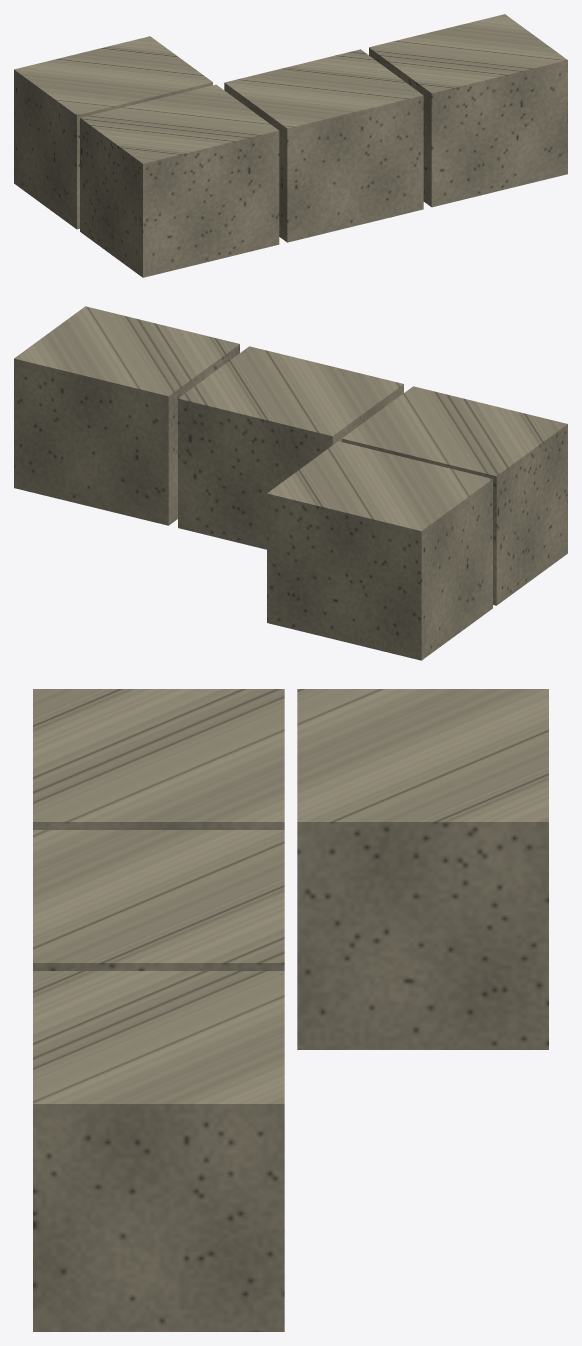
The model's file is PROP-E9F7C84EEC24_lod2.glb.
3 renders of one model, top to bottom at view 1: azimuth 30°, elevation 25°; view 2: azimuth 150°, elevation 25°; view 3: azimuth 270°, elevation 25°, orthographic. The views are drawn at different scales.
Parts seen in each view (by area): view 1: cardboard_box.001; view 2: cardboard_box.001; view 3: cardboard_box.001.
Boxes of the visible parts, x1,y1,x2,y2 form: cardboard_box.001: (14,14,567,277); cardboard_box.001: (14,306,567,660); cardboard_box.001: (33,689,548,1331).
Size of the model in its own units: 1.56 by 0.4 by 0.82.
1 material, 1 textured.
